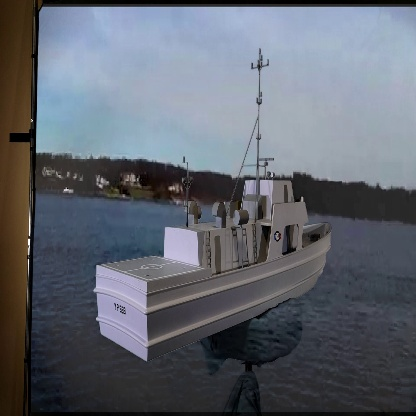YP689: (98, 46, 331, 372)
